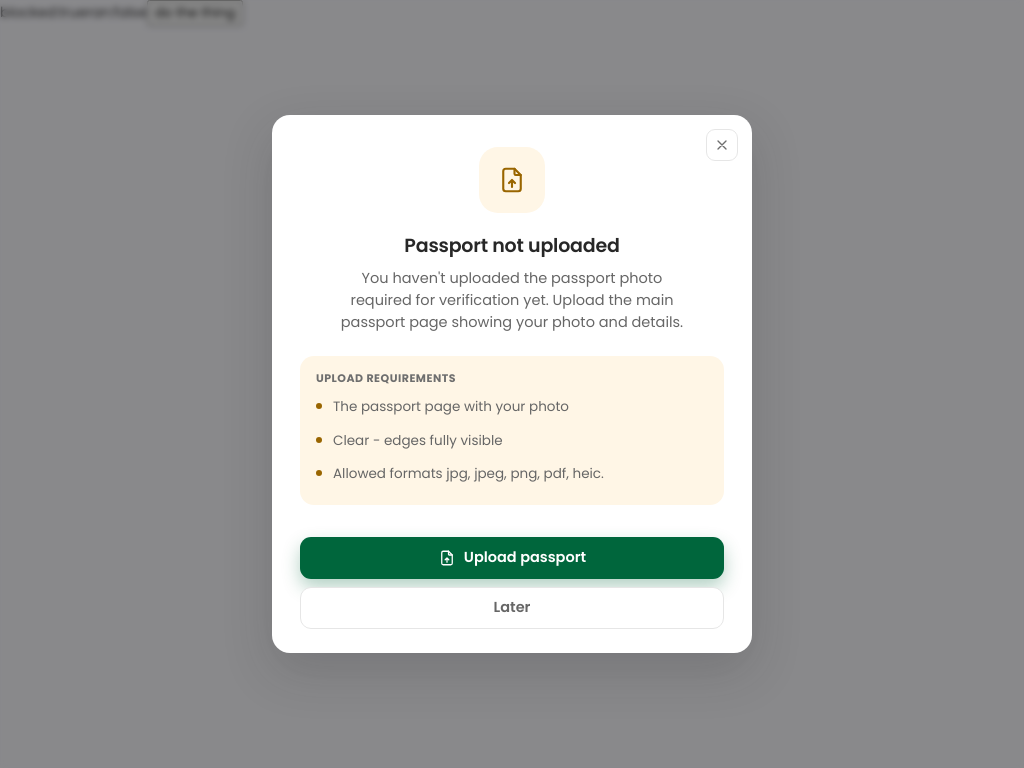
Scenario: the gate › the reason decides the way out: a photo problem offers a re-upload
Click the button "Upload passport": (512, 558) [300,537,724,579]
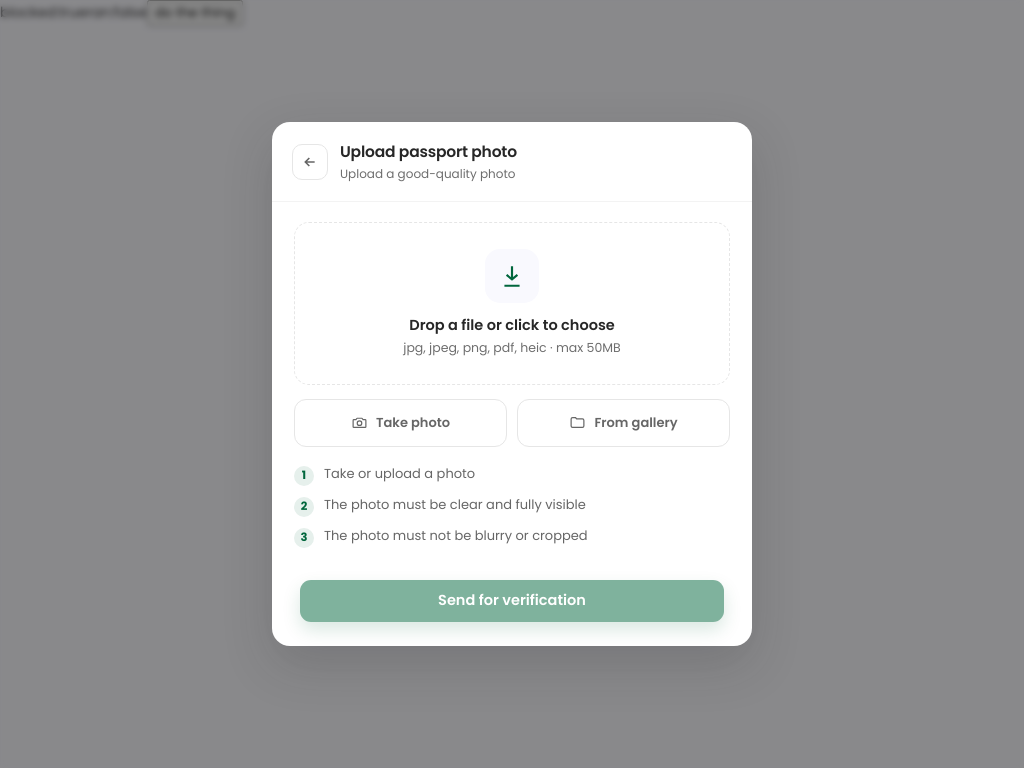
Result: the text "Upload passport photo" is shown at [340,140,517,164]
Result: the text "jpg, jpeg, png, pdf, heic · max 50MB" is shown at [403,339,621,356]
And back again, without losing the reason it came from.
Click the button named "Back": (310, 162) [292,144,328,180]
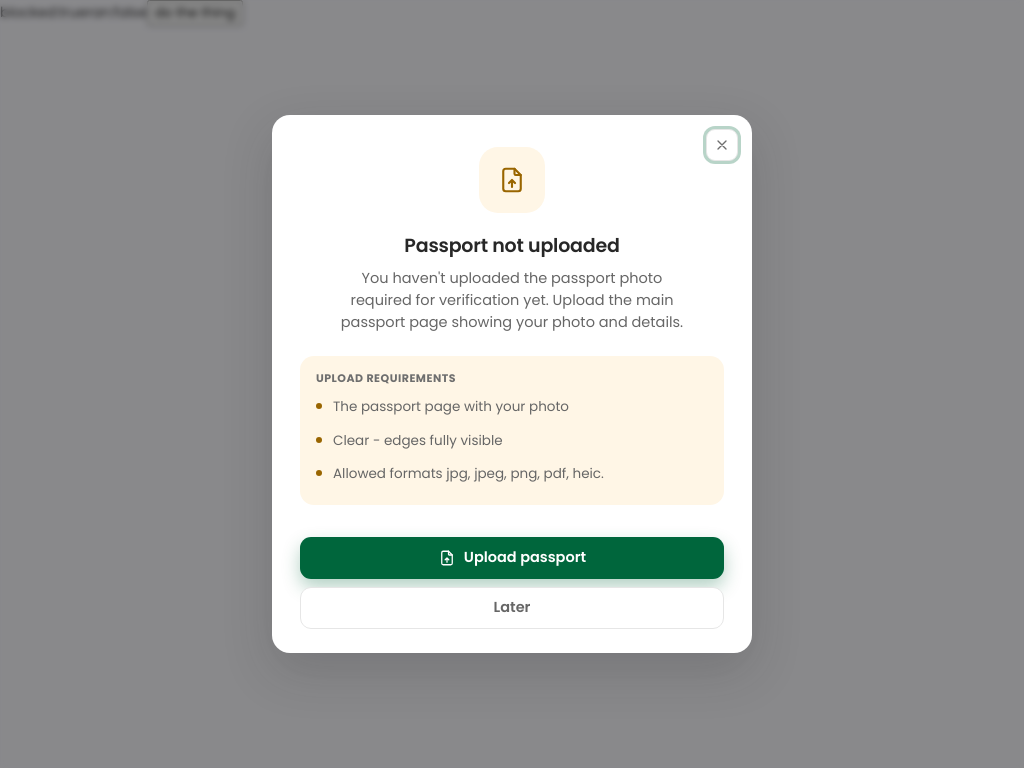
Result: the heading "Passport not uploaded" is shown at [404,232,620,259]
